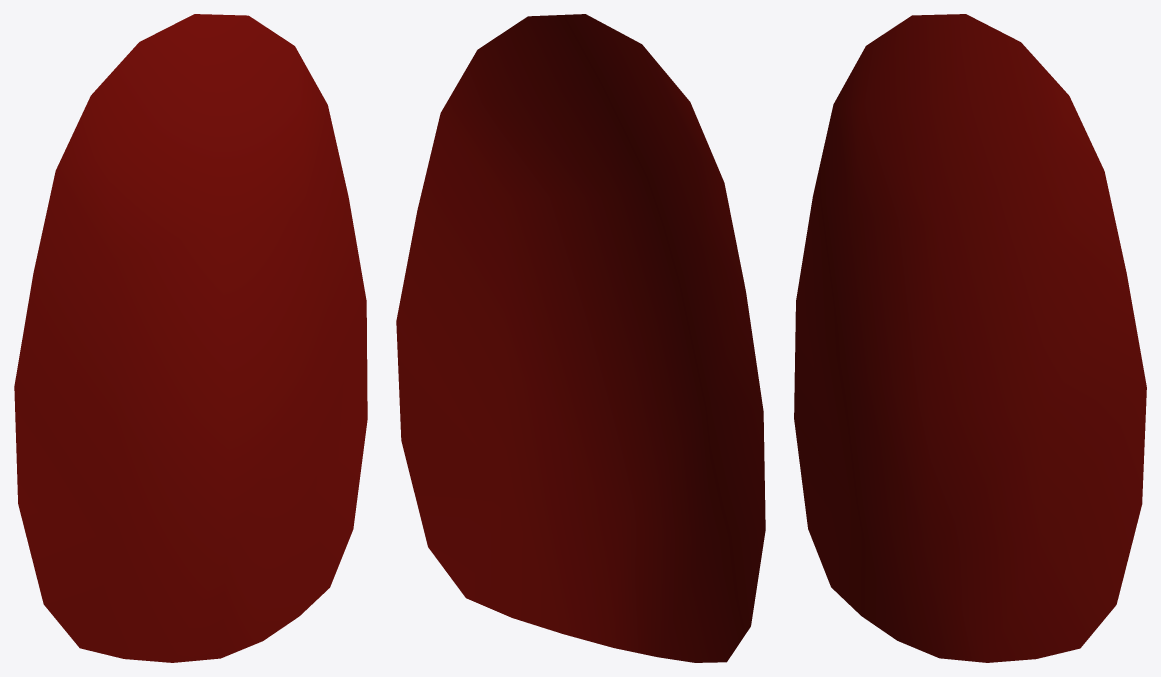
The model's file is MD_nail_natural_HandR.Index.fbx.
3 renders of one model, left to right at view 1: azimuth 30°, elevation 25°; view 2: azimuth 150°, elevation 25°; view 3: azimuth 330°, elevation 25°, orthographic. The views are drawn at different scales.
Parts seen in each view (by area): view 1: MD_nail_natural_HandR.Index; view 2: MD_nail_natural_HandR.Index; view 3: MD_nail_natural_HandR.Index.
Part boxes in pixels (box(x1,y1,x2,y2)): MD_nail_natural_HandR.Index: box(14, 14, 367, 662); MD_nail_natural_HandR.Index: box(396, 14, 765, 662); MD_nail_natural_HandR.Index: box(794, 14, 1146, 662).
Size of the model in its own units: 0.7161 by 1.22 by 0.1438.
